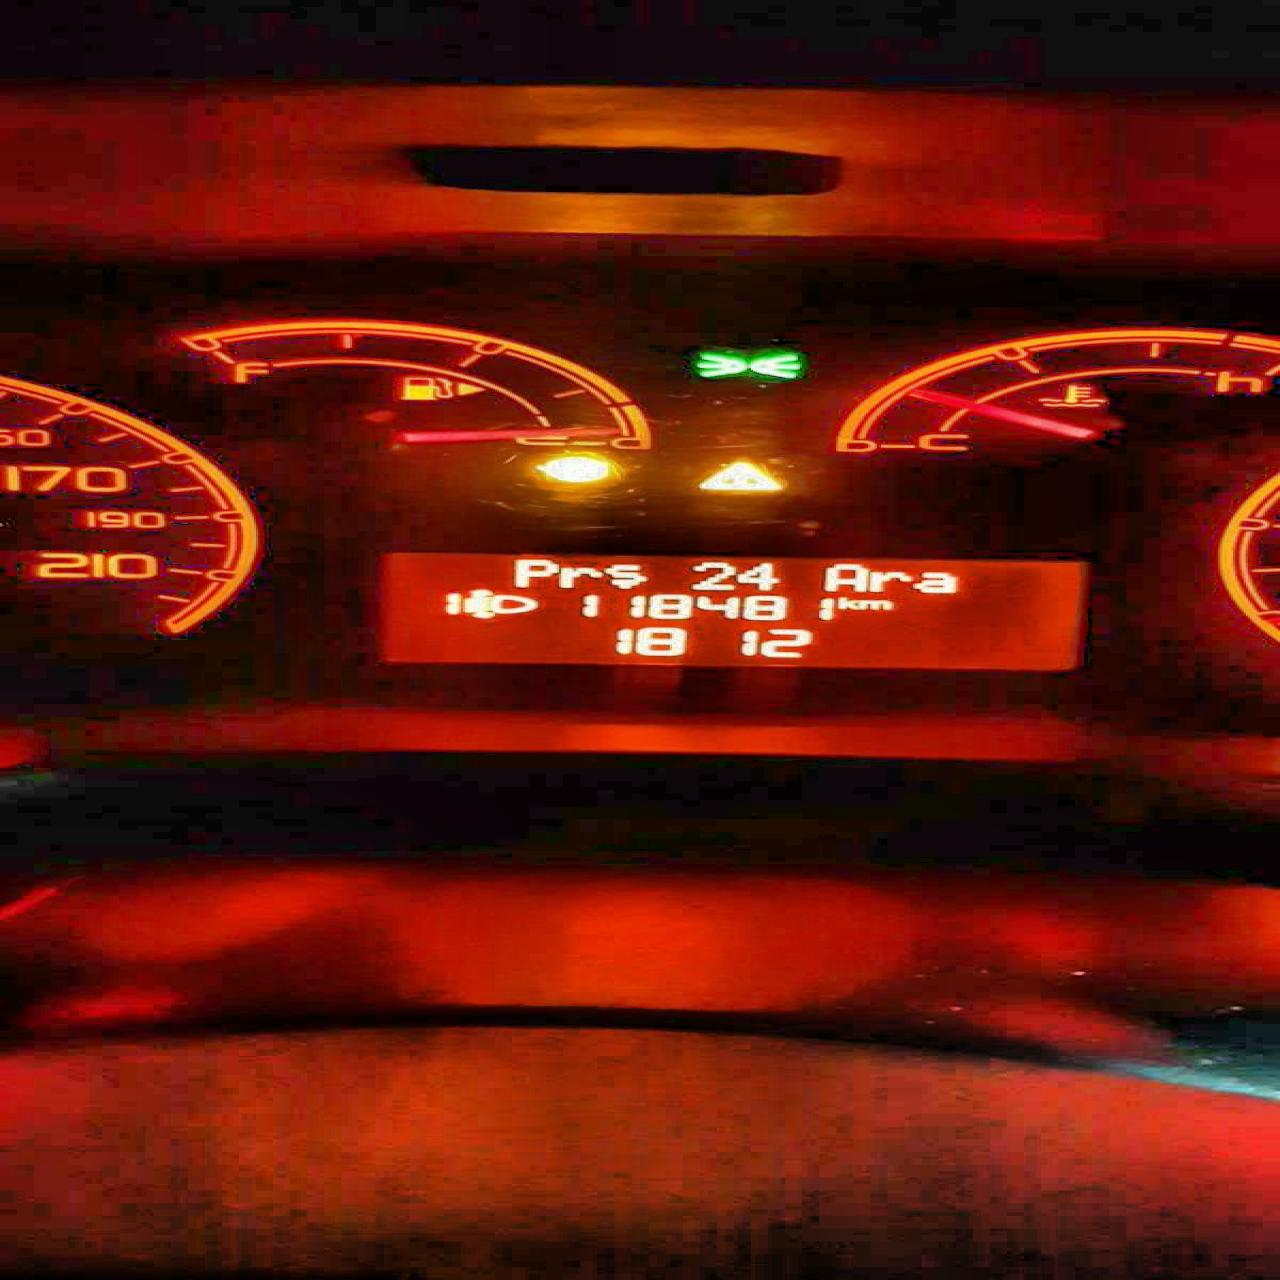1: (606, 624, 632, 659), (440, 590, 463, 618), (738, 628, 760, 659), (578, 592, 601, 618), (815, 595, 835, 624), (627, 593, 644, 619)
2: (762, 626, 816, 658), (687, 558, 734, 592)
4: (736, 560, 785, 591), (694, 594, 741, 620)
8: (634, 625, 687, 659), (648, 592, 694, 621), (742, 594, 788, 621)
X: (512, 558, 557, 588), (824, 561, 869, 592), (604, 561, 651, 588), (559, 564, 601, 590), (913, 571, 958, 594), (869, 570, 908, 592), (858, 598, 892, 611), (836, 594, 858, 610)
odometer: (372, 549, 1101, 678)
